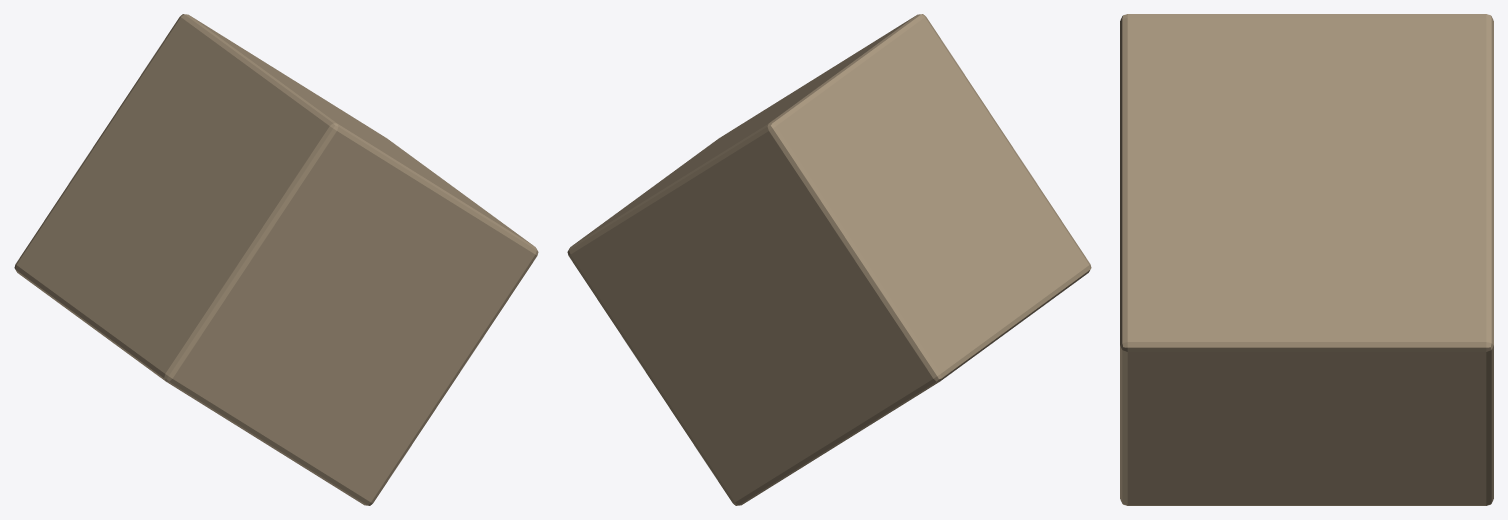
File: cube_wood_yellow.glb
3 views of the same model, side by side, from view 1: azimuth 30°, elevation 25°; view 2: azimuth 150°, elevation 25°; view 3: azimuth 270°, elevation 25° (orthographic). The views are drawn at different scales.
Parts seen in each view (by area): view 1: cube_wood_yellow; view 2: cube_wood_yellow; view 3: cube_wood_yellow.
Part boxes in pixels (x1,y1,x2,y2): cube_wood_yellow: (14,14,538,505); cube_wood_yellow: (567,14,1091,505); cube_wood_yellow: (1120,14,1493,505).
Bounding box in the file's own units: 0.5566 × 0.5566 × 0.4.
